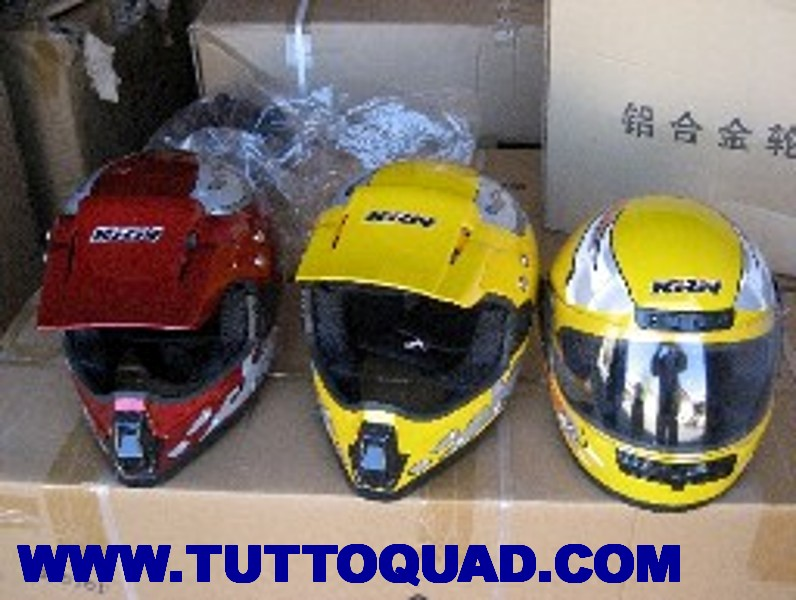helmet: (303, 159, 536, 456), (57, 158, 285, 444), (562, 196, 783, 487)
